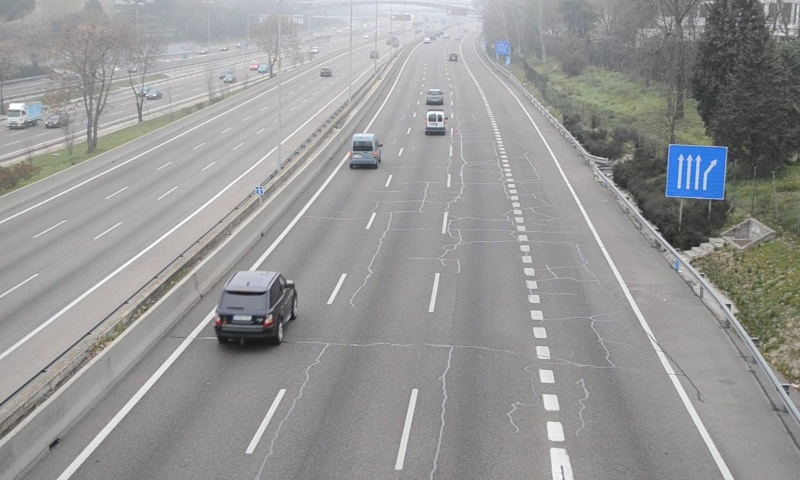car: (214, 272, 298, 338), (424, 88, 444, 106)
van: (348, 132, 378, 166), (425, 109, 446, 134)
